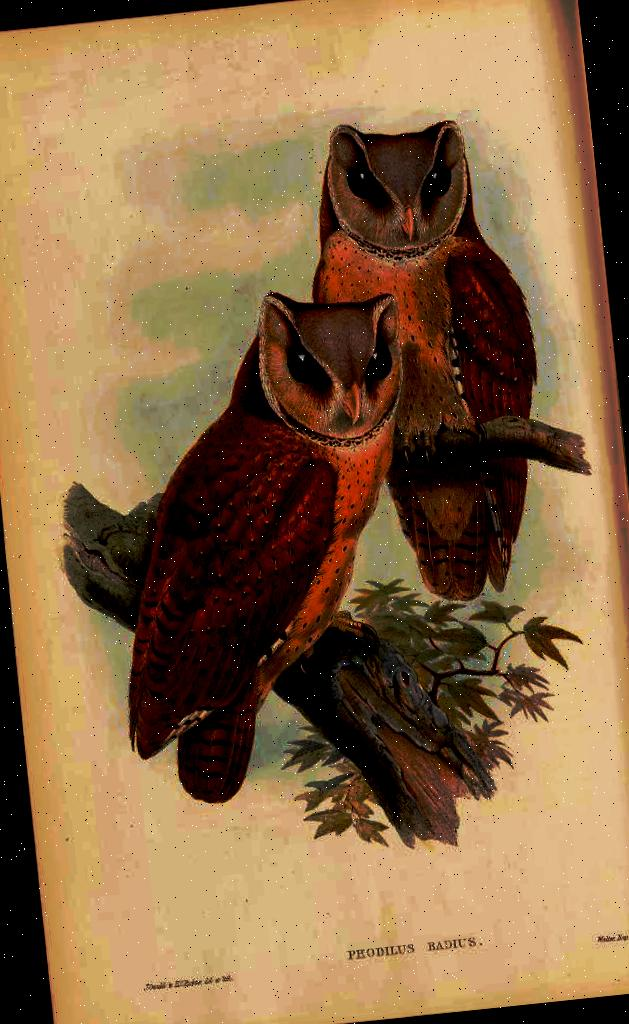Owl: (84, 272, 446, 815), (287, 104, 564, 618)
